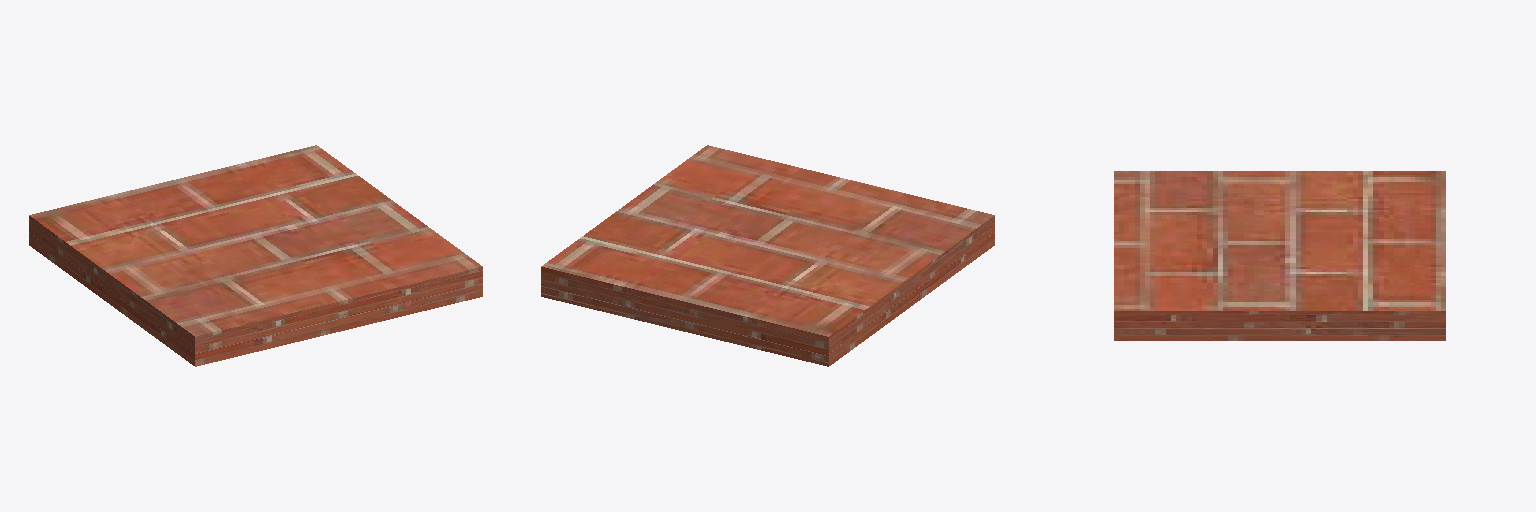
3 renders of one model, left to right at view 1: azimuth 30°, elevation 25°; view 2: azimuth 150°, elevation 25°; view 3: azimuth 270°, elevation 25°, orthographic.
Size of the model in its own units: 1 by 0.1 by 1.
1 materials, 1 textured.